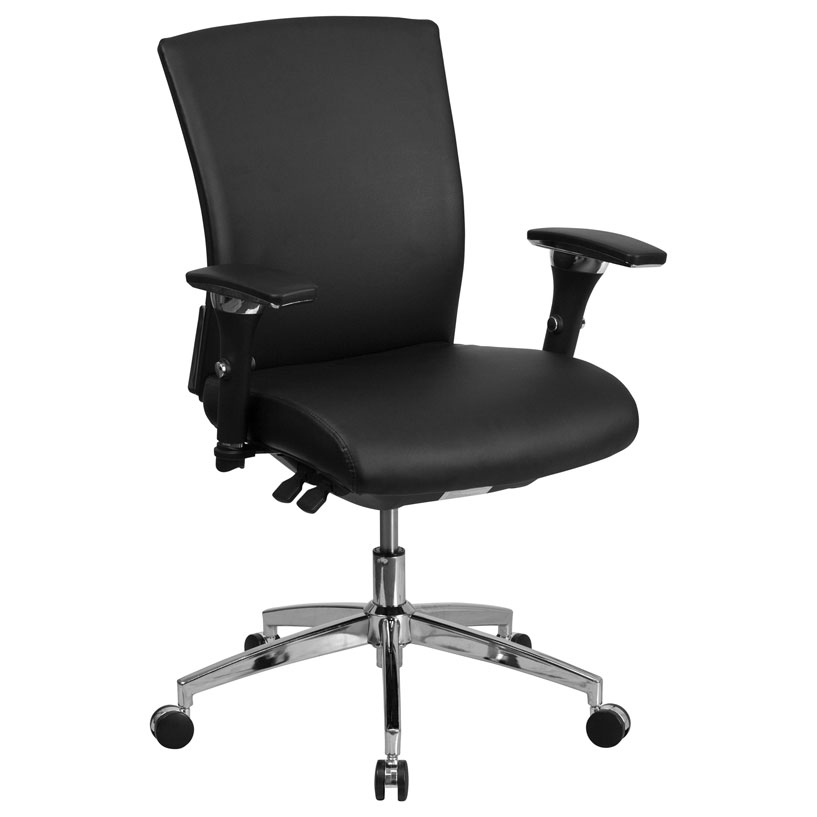chairs: (121, 12, 673, 806)
